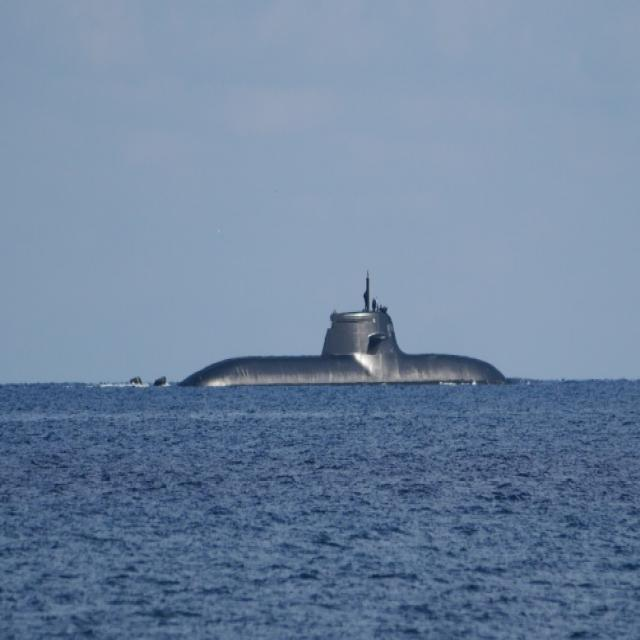submarine: (131, 271, 510, 391)
